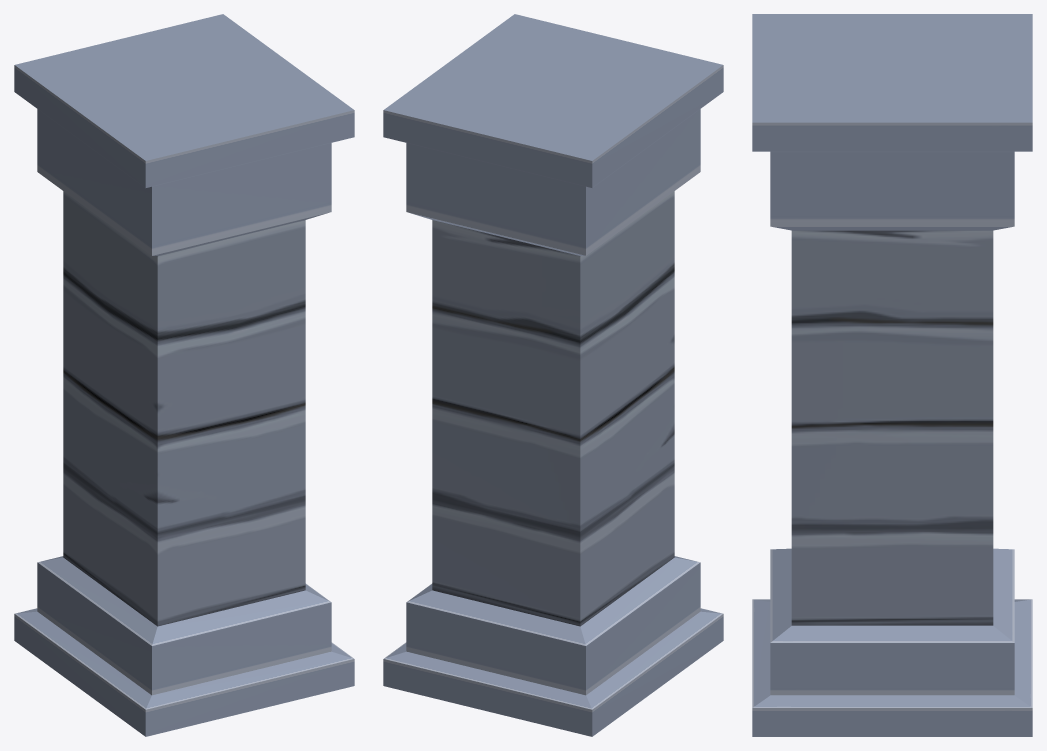
Rendered from Pillar_Center.fbx.
The picture shows the model from 3 angles, left to right: view 1: azimuth 30°, elevation 25°; view 2: azimuth 150°, elevation 25°; view 3: azimuth 270°, elevation 25°; orthographic projection. The views are drawn at different scales.
Visible parts, largest first — view 1: Pillar_Center; view 2: Pillar_Center; view 3: Pillar_Center.
Boxes of the visible parts, box(x1,y1,x2,y2) form: Pillar_Center: box(14, 14, 354, 736); Pillar_Center: box(383, 14, 723, 736); Pillar_Center: box(752, 14, 1032, 736).
Bounding box in the file's own units: 29.84 × 78.68 × 32.51.
